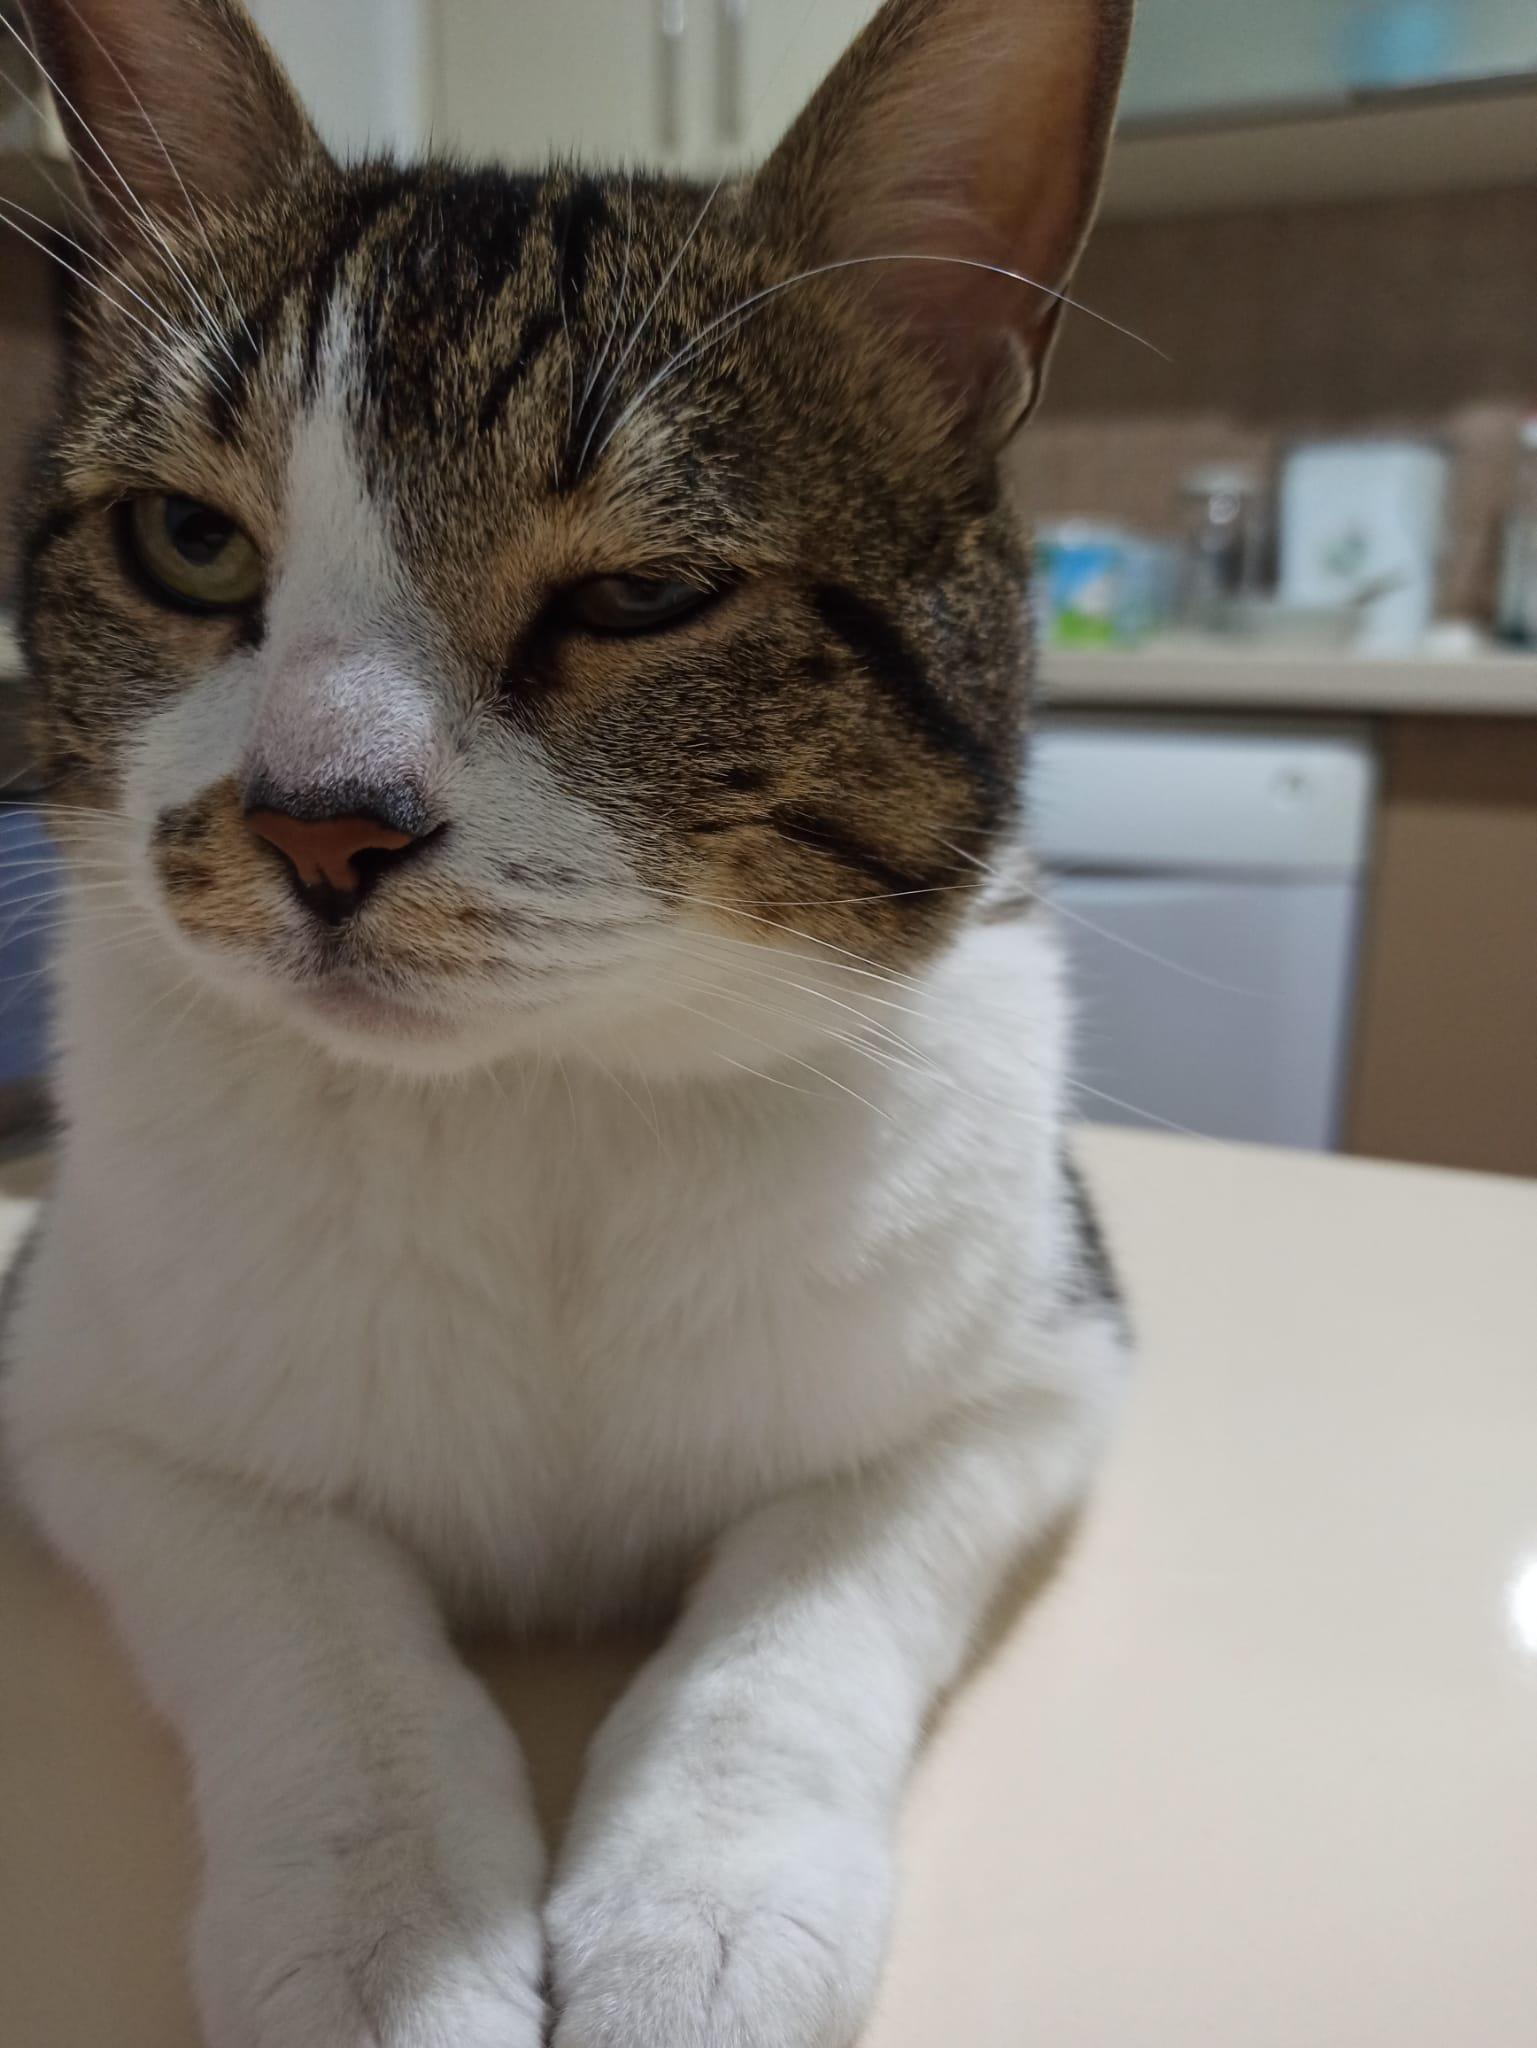kedo: (0, 8, 1119, 2035)
